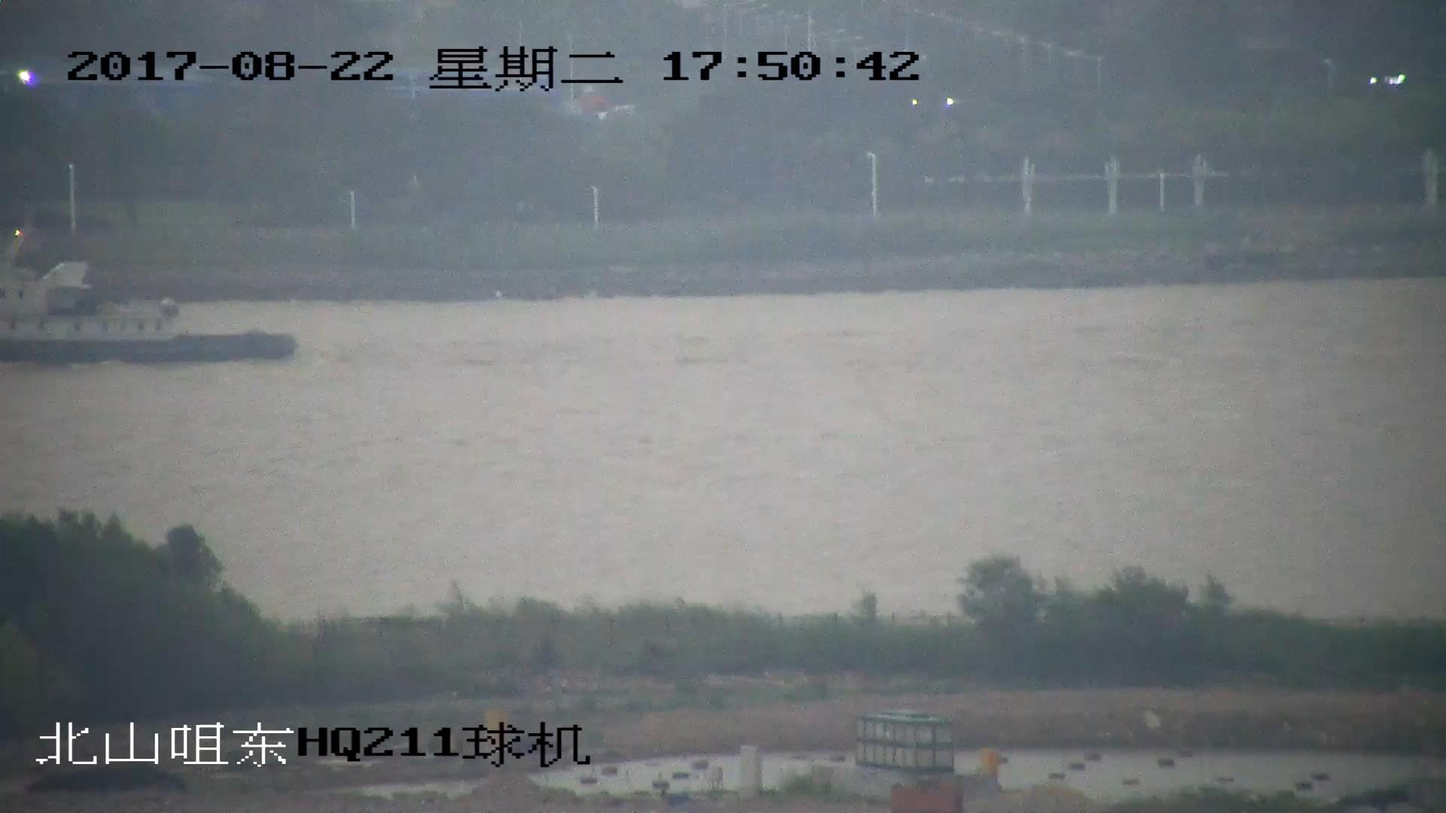passenger ship: (0, 237, 302, 364)
